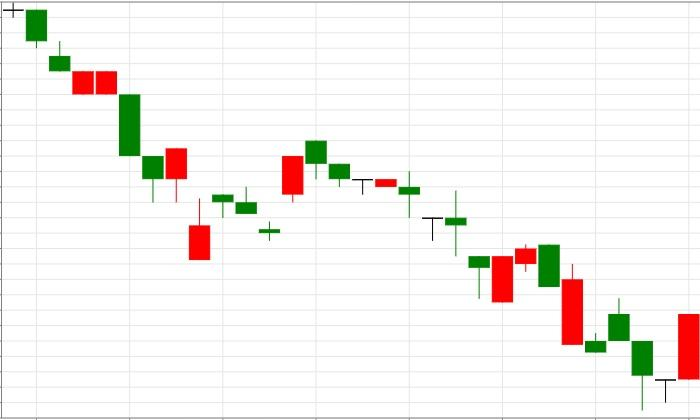bullish_engulfing_rise: (1, 1, 188, 204), (305, 141, 514, 304)
morning_star_rise: (538, 244, 700, 410)
